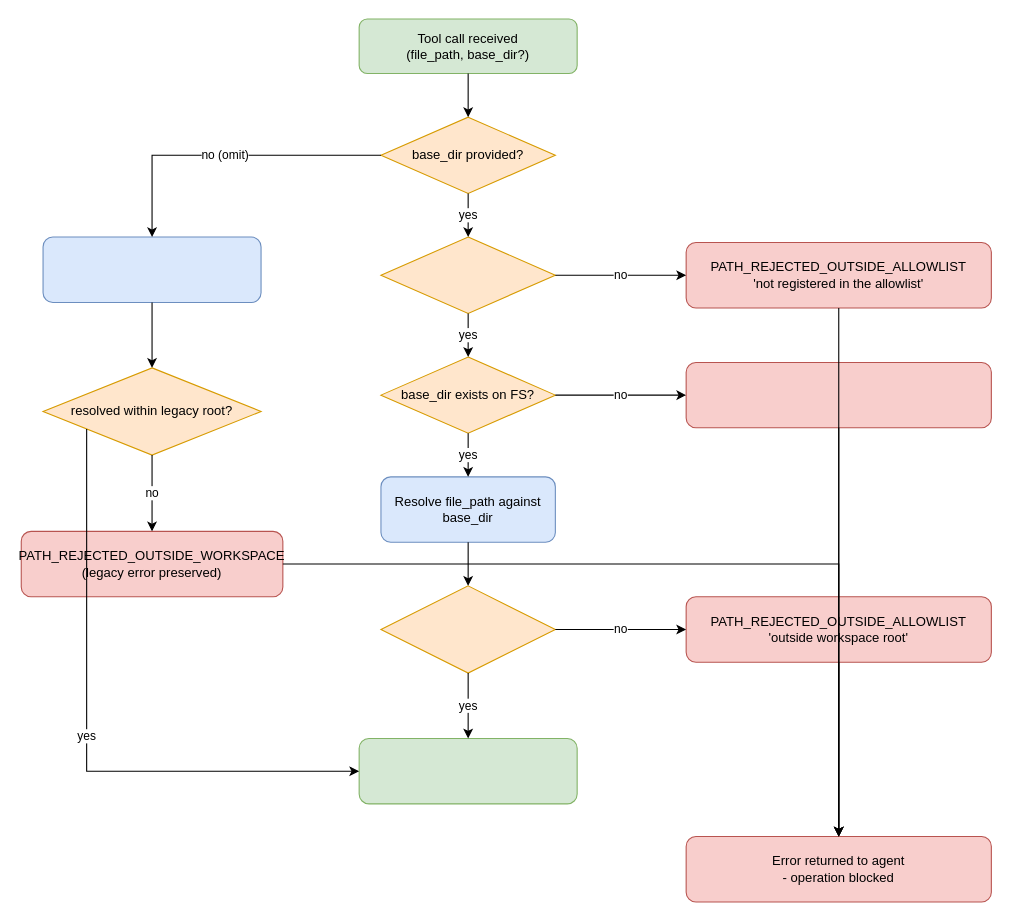
Image size: 1010x921. Some labels were removed from this diagram. Here are the shapes that lost their labels. From the top down, the box of each, then its label:
(42, 236, 261, 302): Legacy: use pinned root (base_dir omitted)
(380, 236, 555, 313): base_dir in allowlist?
(685, 361, 991, 428): FS_ERROR 'does not exist on filesystem'
(380, 585, 555, 673): resolved within base_dir?
(358, 737, 577, 804): Execute tool on resolved path -> success result
